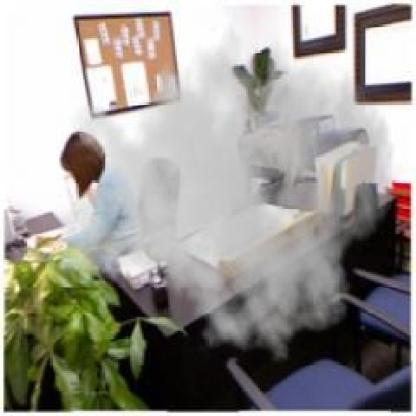Smoke: (57, 6, 395, 372)
